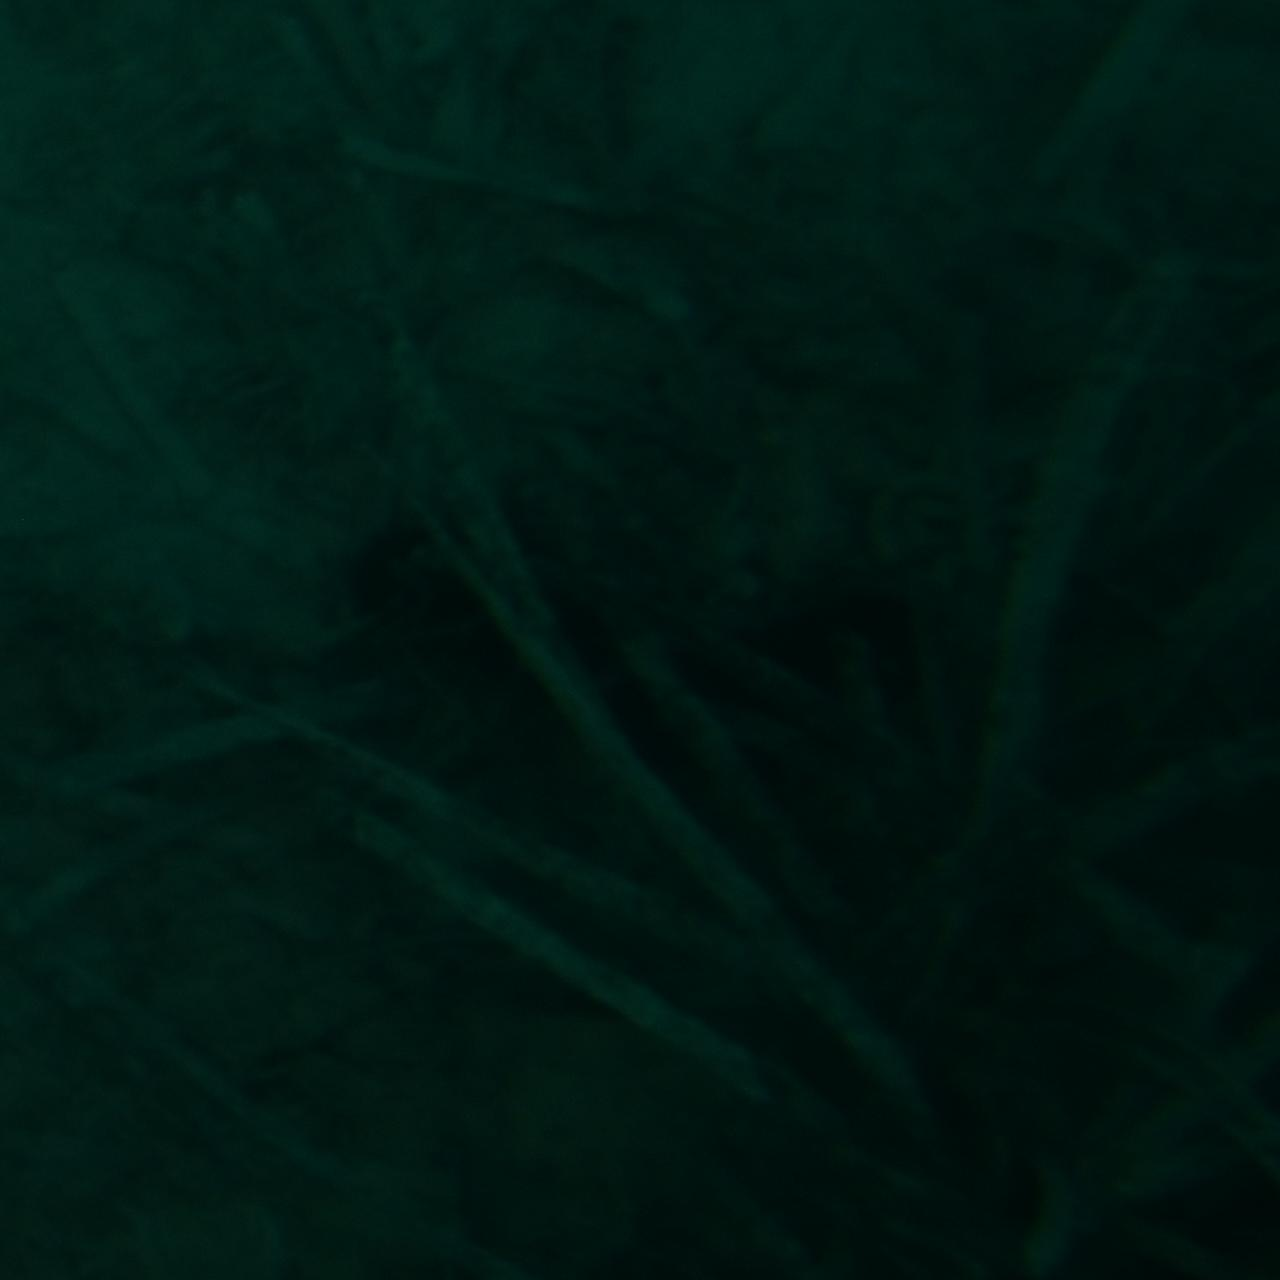Holothuria tubulosa: (326, 512, 954, 768)
